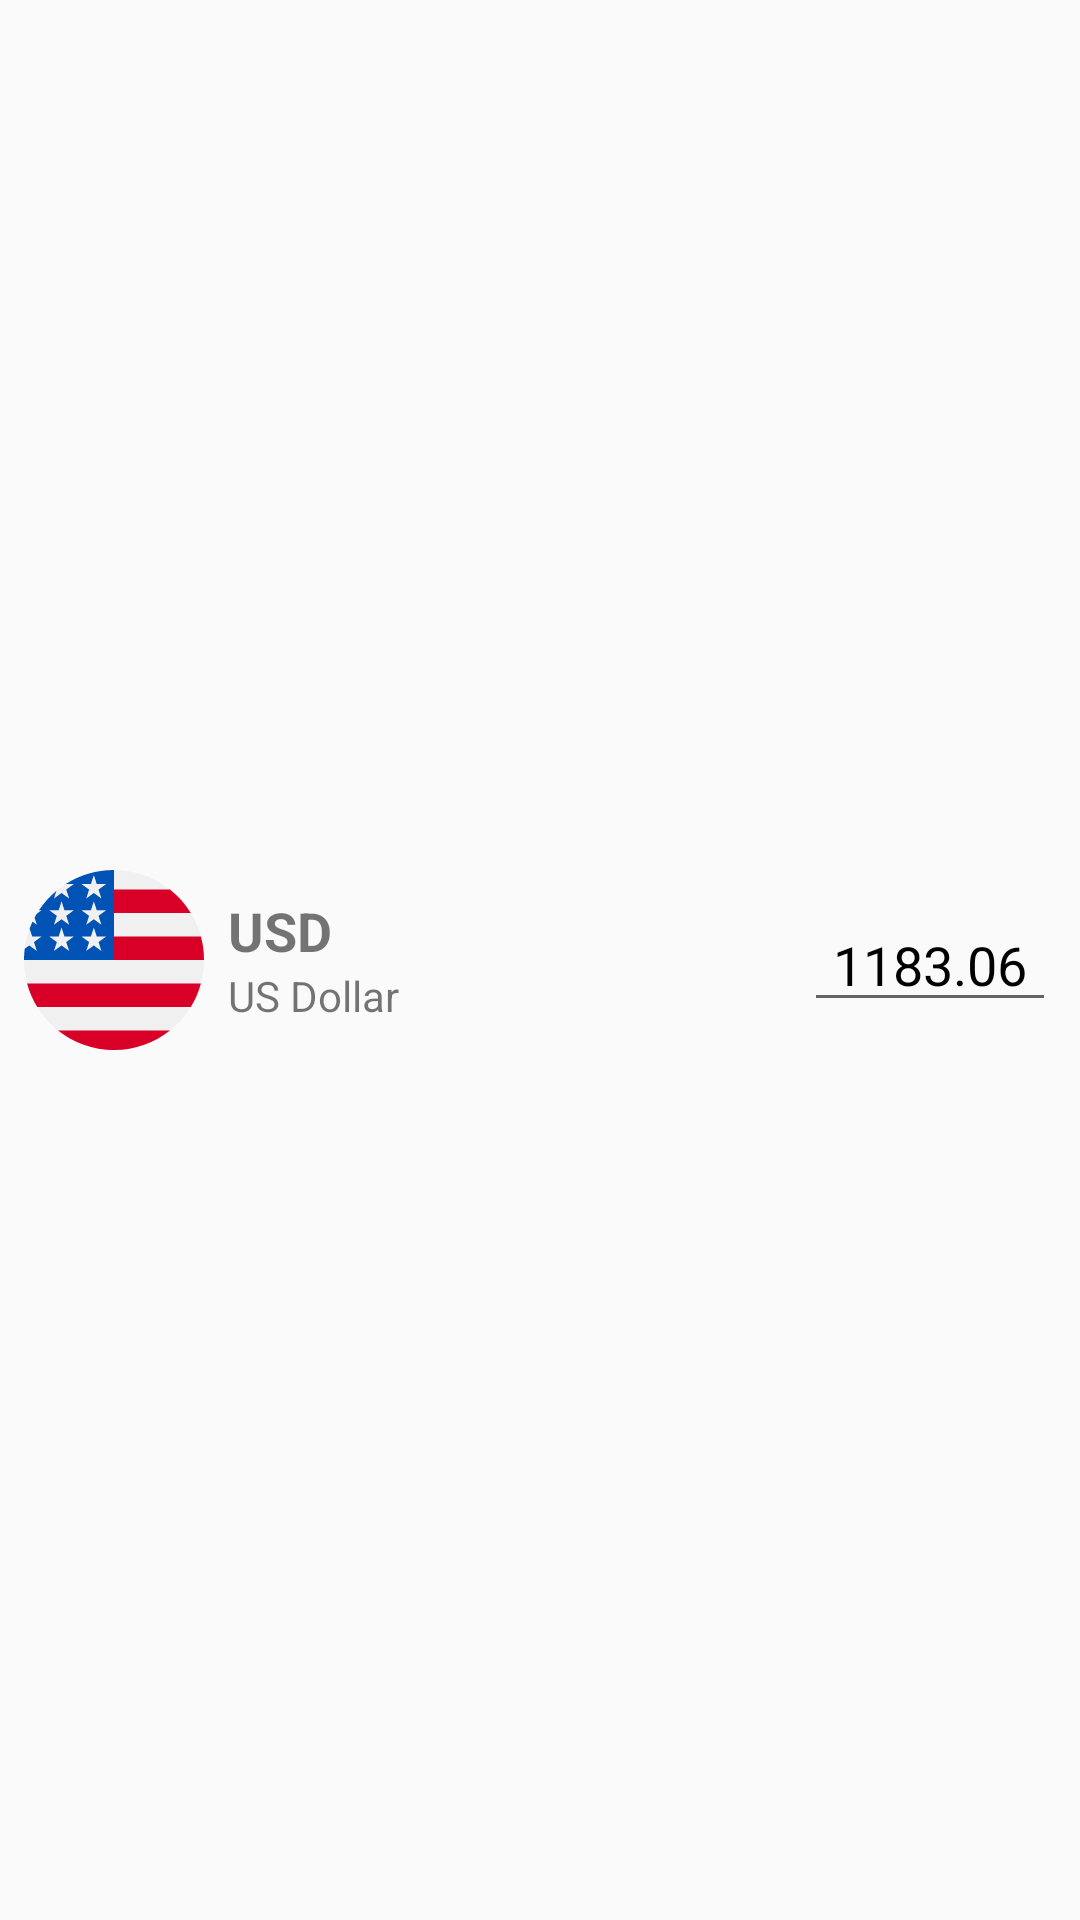

Icon click points for this 1080*1920 phone screenshot, format (x=x, y=y):
flag: (x=114, y=960)
